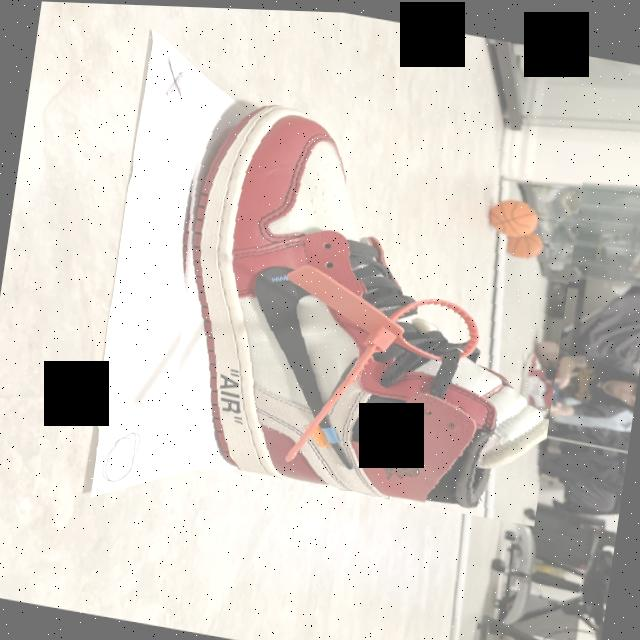shoe: (148, 85, 586, 525)
